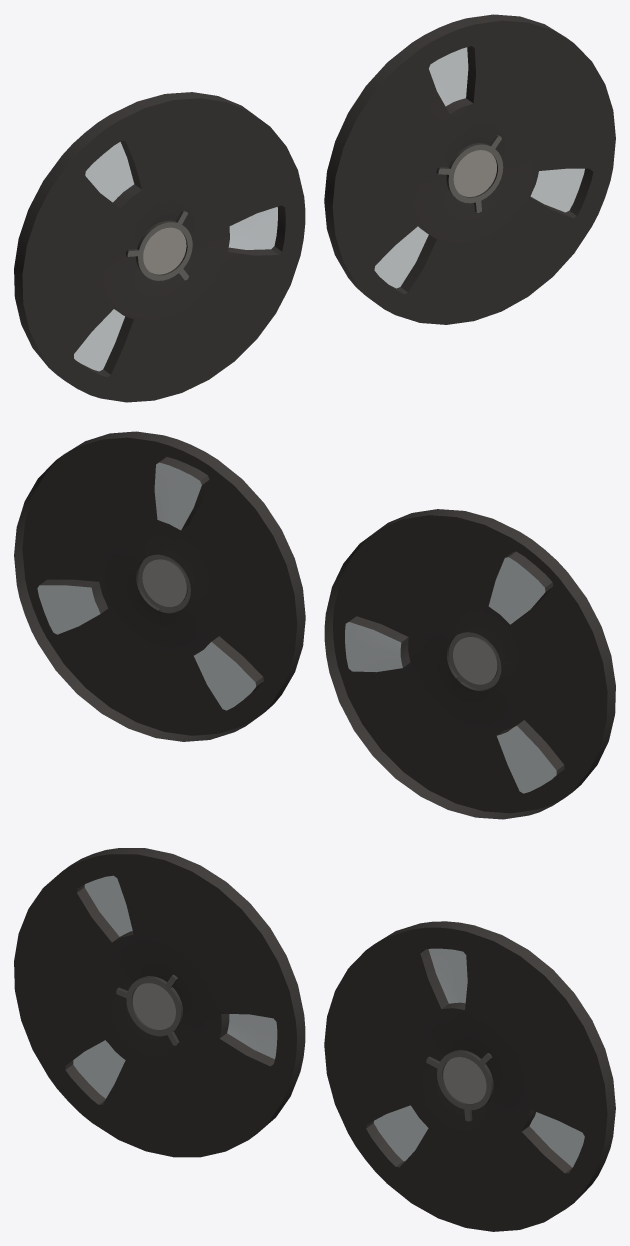
The model's file is Reels.fbx.
The picture shows the model from 3 angles, top to bottom: view 1: azimuth 30°, elevation 25°; view 2: azimuth 150°, elevation 25°; view 3: azimuth 330°, elevation 25°; orthographic projection.
Visible parts, largest first — view 1: reelSet, reelSet.001; view 2: reelSet, reelSet.001; view 3: reelSet, reelSet.001.
Boxes of the visible parts, x1,y1,x2,y2 form: reelSet: (14, 92, 305, 402); reelSet.001: (324, 14, 615, 324); reelSet: (324, 509, 615, 819); reelSet.001: (14, 431, 305, 741); reelSet: (14, 848, 305, 1157); reelSet.001: (324, 921, 615, 1231).
Bounding box in the file's own units: 5.5 × 2.64 × 0.1647.
